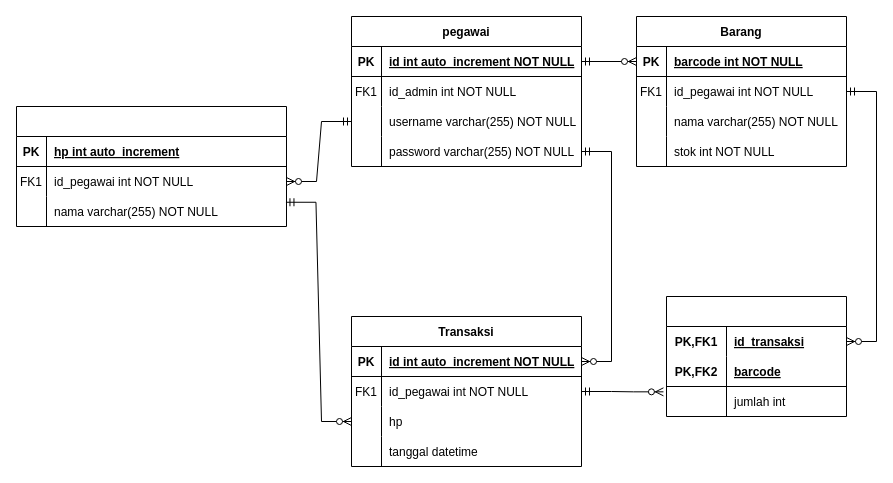
This 893x483 diagram has some shape labels left out. Each missing label, with the box of its shape:
customer: (16, 106, 286, 226)
Transaksi Barang: (666, 296, 846, 416)
